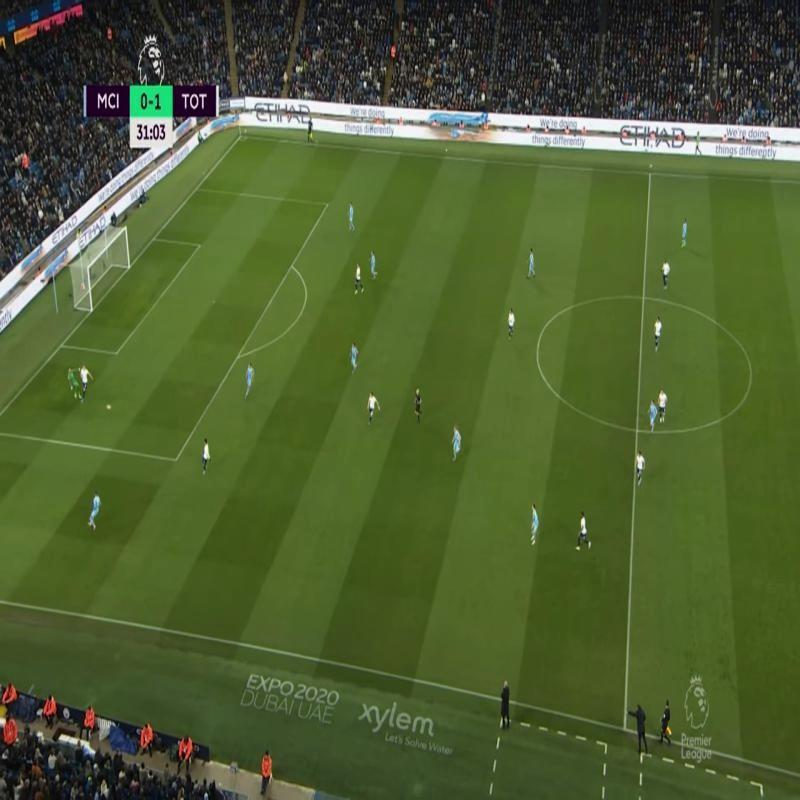1: (233, 130, 249, 144)
10: (286, 260, 300, 274)
11: (233, 349, 242, 366)
12: (168, 453, 183, 468)
13: (643, 166, 659, 182)
14: (636, 289, 652, 306)
15: (628, 424, 644, 440)
16: (615, 716, 634, 740)
2: (190, 182, 202, 196)
3: (148, 232, 160, 246)
4: (56, 338, 66, 354)
8: (110, 342, 124, 364)
9: (321, 195, 335, 209), (194, 241, 209, 254)
c: (745, 370, 761, 386), (532, 340, 546, 356)
